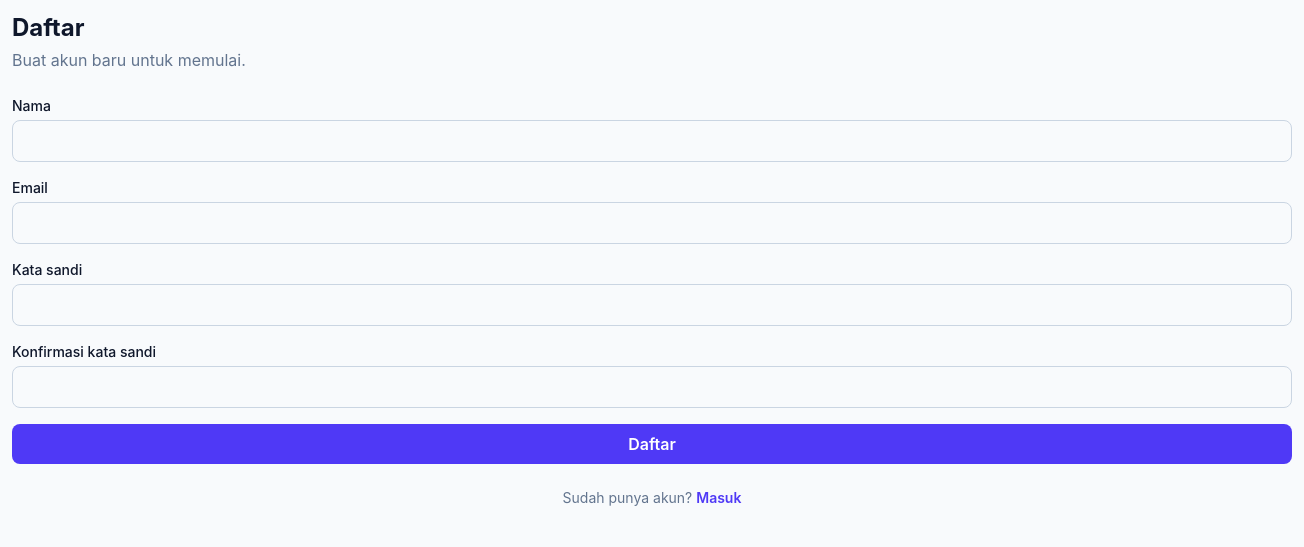
RegisterPage › menampilkan pesan jika format email tidak valid
The width and height of the screenshot is (1304, 547).
Type "Gian" into the field labelled "Nama" at (652, 141), box [12,120,1292,162]
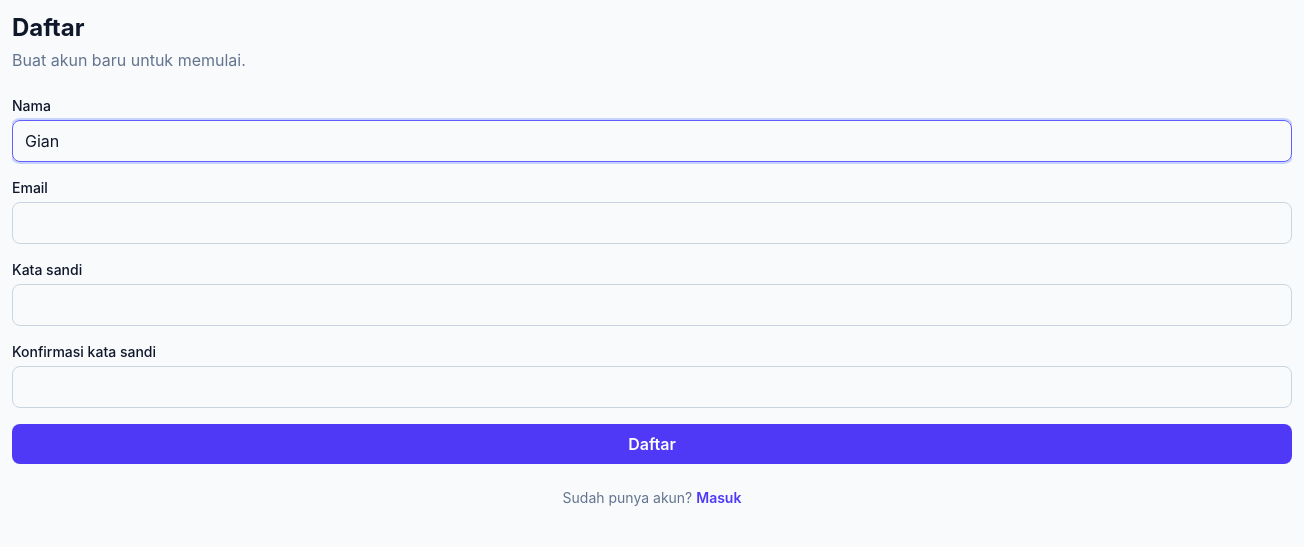
Type "bukan-email" into the field labelled "Email" at (652, 223), box [12,202,1292,244]
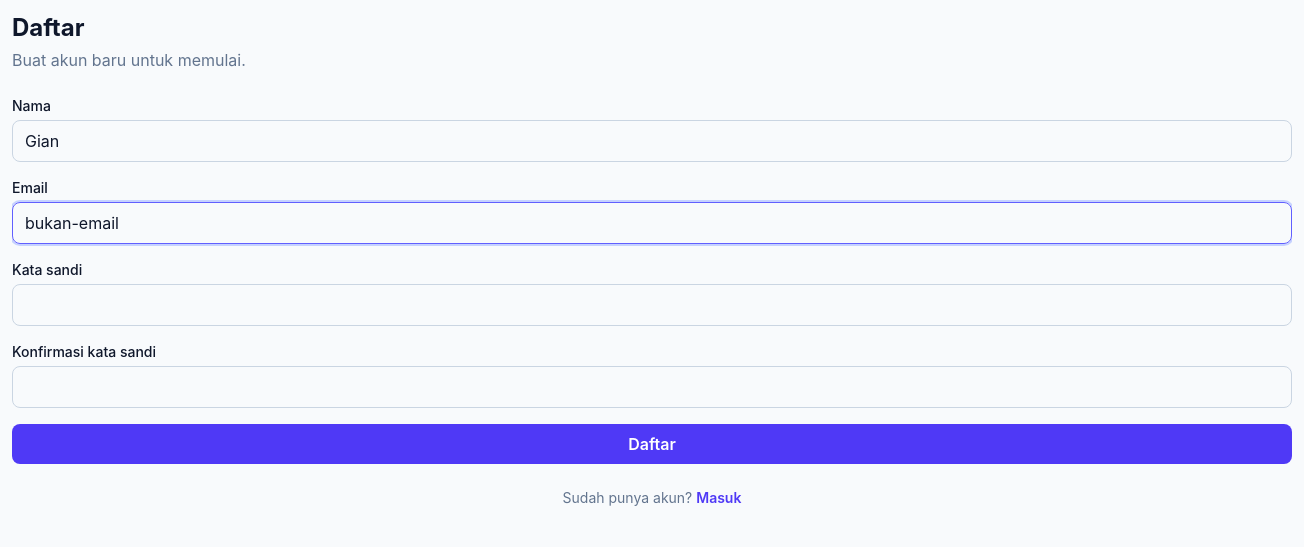
Type "rahasia" into the password field labelled "Kata sandi" at (652, 305), box [12,284,1292,326]
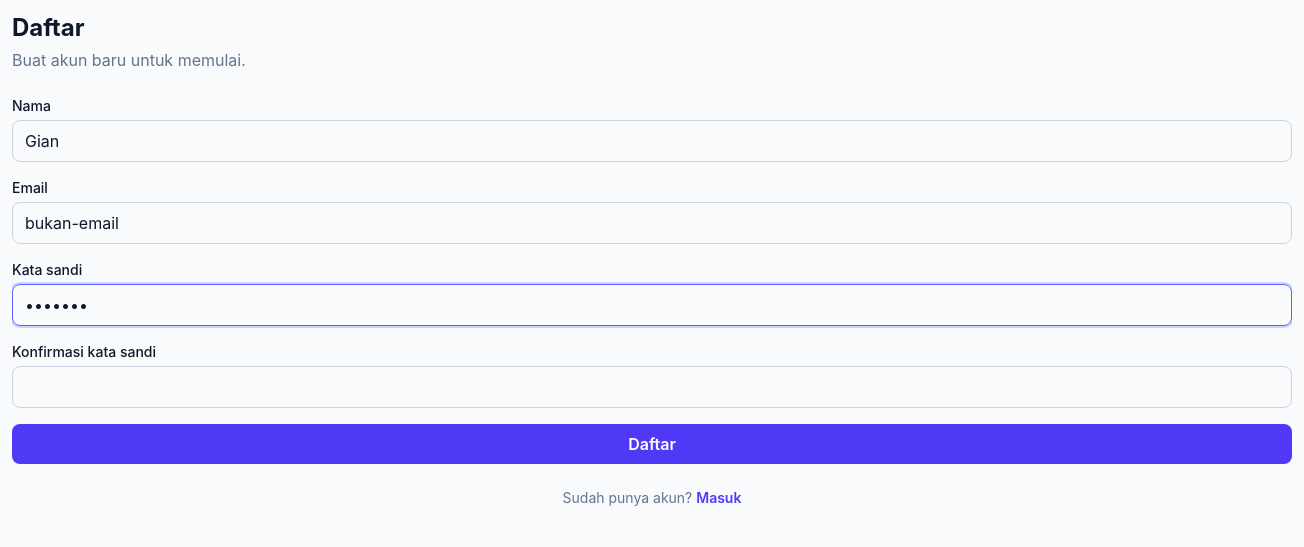
Type "rahasia" into the password field labelled "Konfirmasi kata sandi" at (652, 387), box [12,366,1292,408]
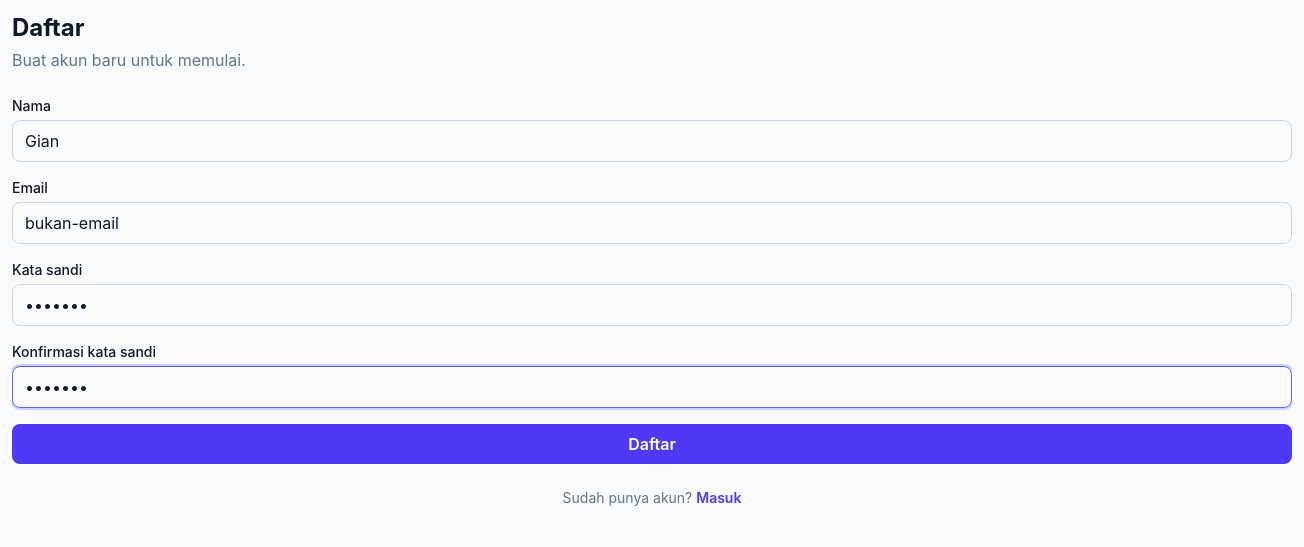
Click the button "Daftar" at (652, 444), box [12,424,1292,464]
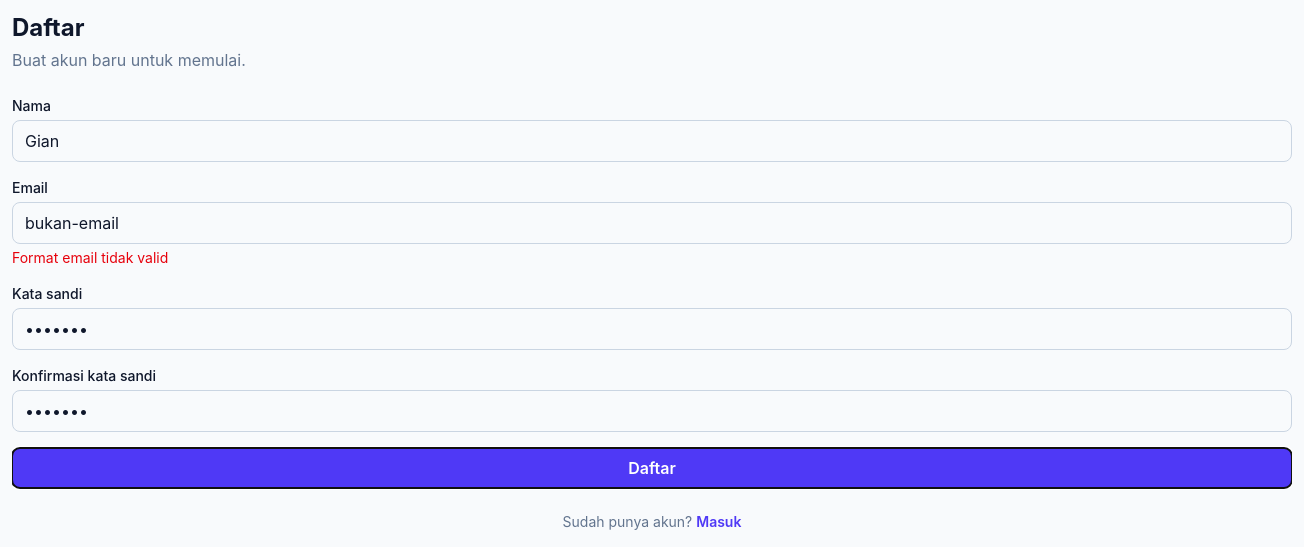
Check: the text "Format email tidak valid" is shown, box [12,249,168,266]
